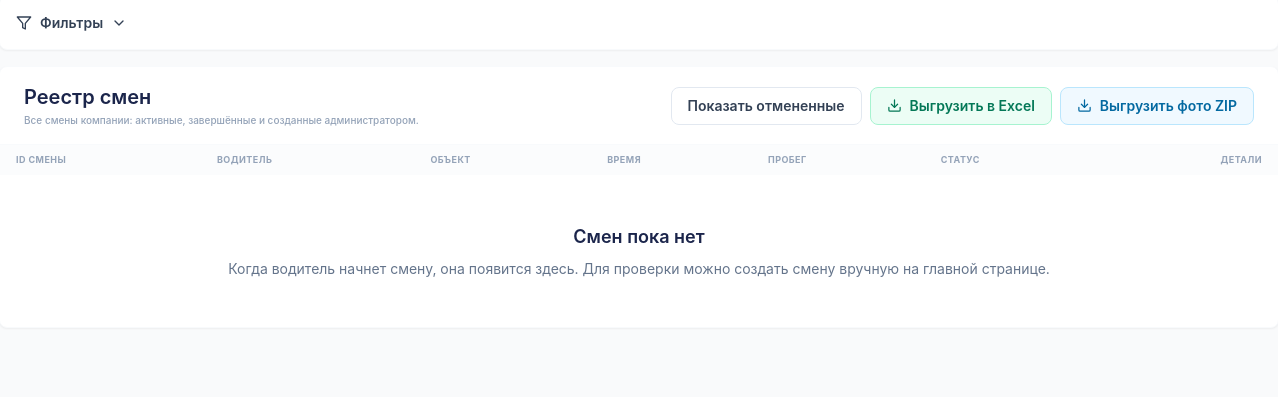
Scenario: keeps a server denial visible if refreshing stale entitlement fails
This screenshot has width=1278, height=397.
Expected: the heading "Реестр смен" is shown, x1=24 y1=85 x2=151 y2=109
Click the button "Выгрузить в Excel": [961, 106] box x1=870 y1=86 x2=1052 y2=124
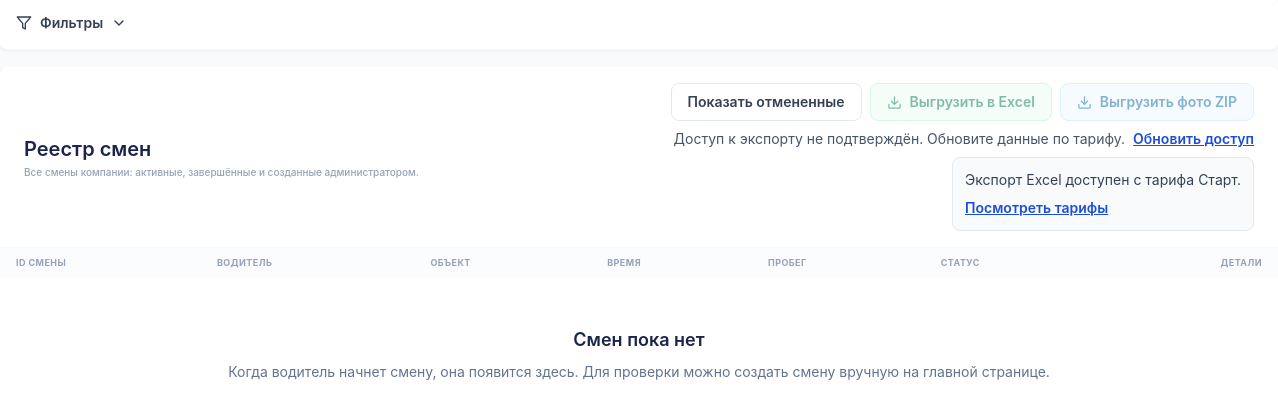
Now the text "Доступ к экспорту не подтверждён. Обновите данные по тарифу. Обновить доступ" is shown, box x1=674 y1=129 x2=1254 y2=149
Now the text "Экспорт Excel доступен с тарифа Старт." is shown, box x1=965 y1=170 x2=1241 y2=190
Now the button "Посмотреть тарифы" is shown, box x1=965 y1=198 x2=1108 y2=218
